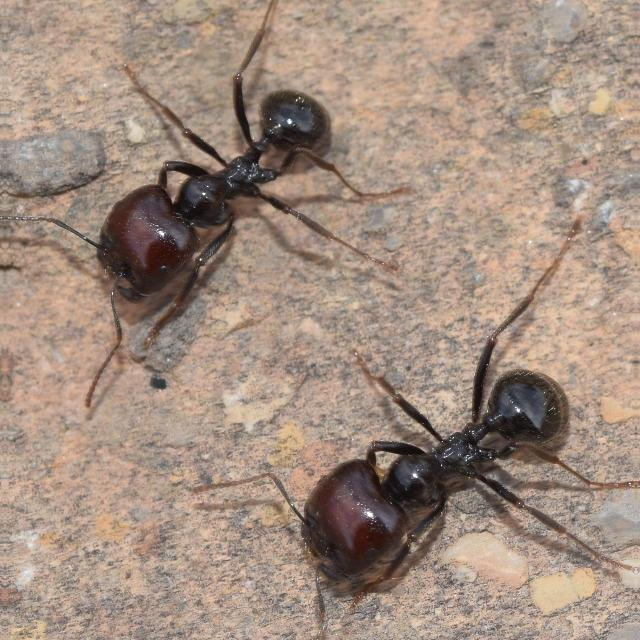Messor: (271, 334, 584, 598), (88, 42, 342, 344)
